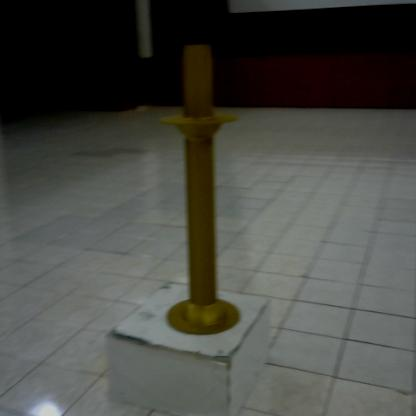pole: (156, 37, 253, 345)
